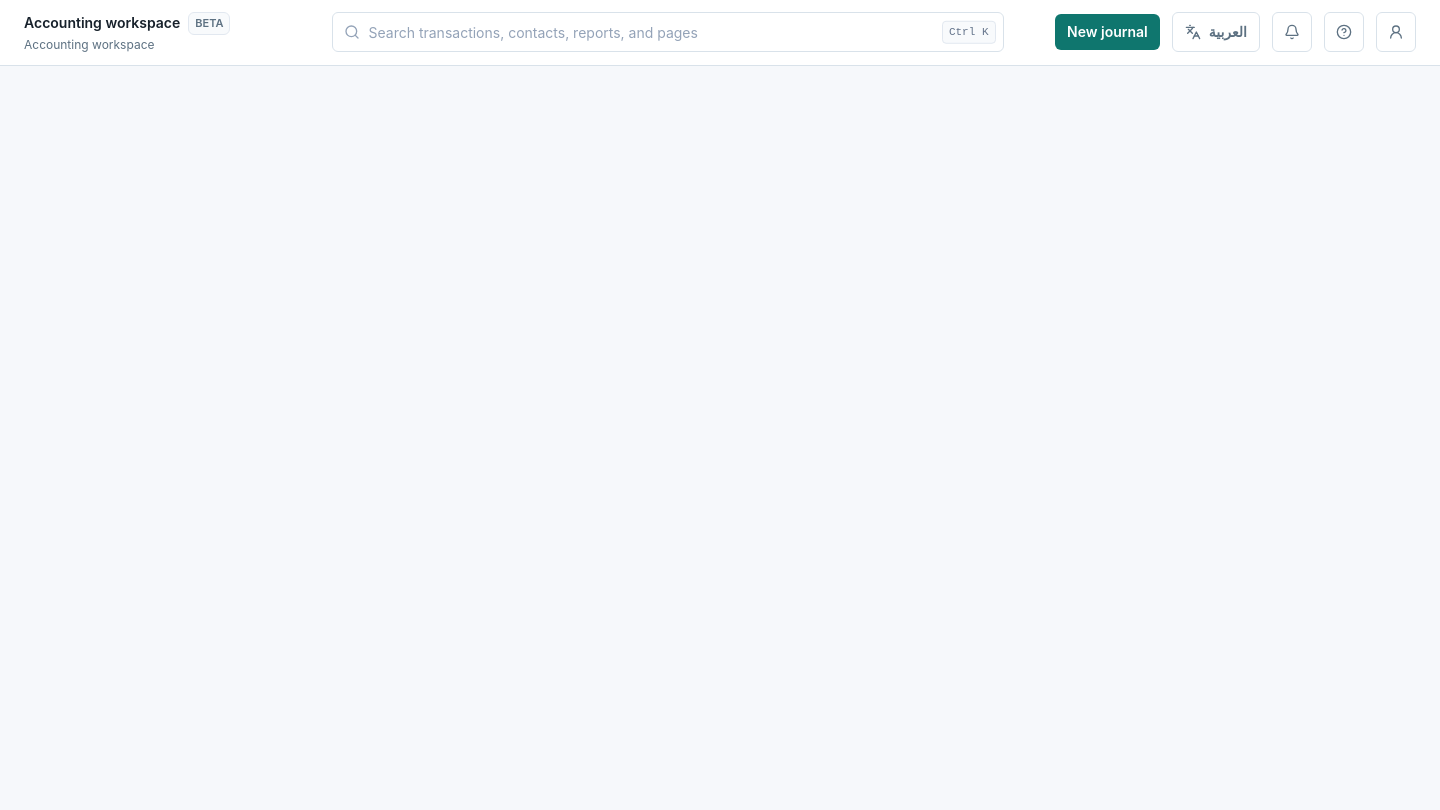
it: Topbar action menus › opens notifications and renders dashboard attention links
Click the button named "Notifications" at (1292, 32), box [1272,12,1312,52]
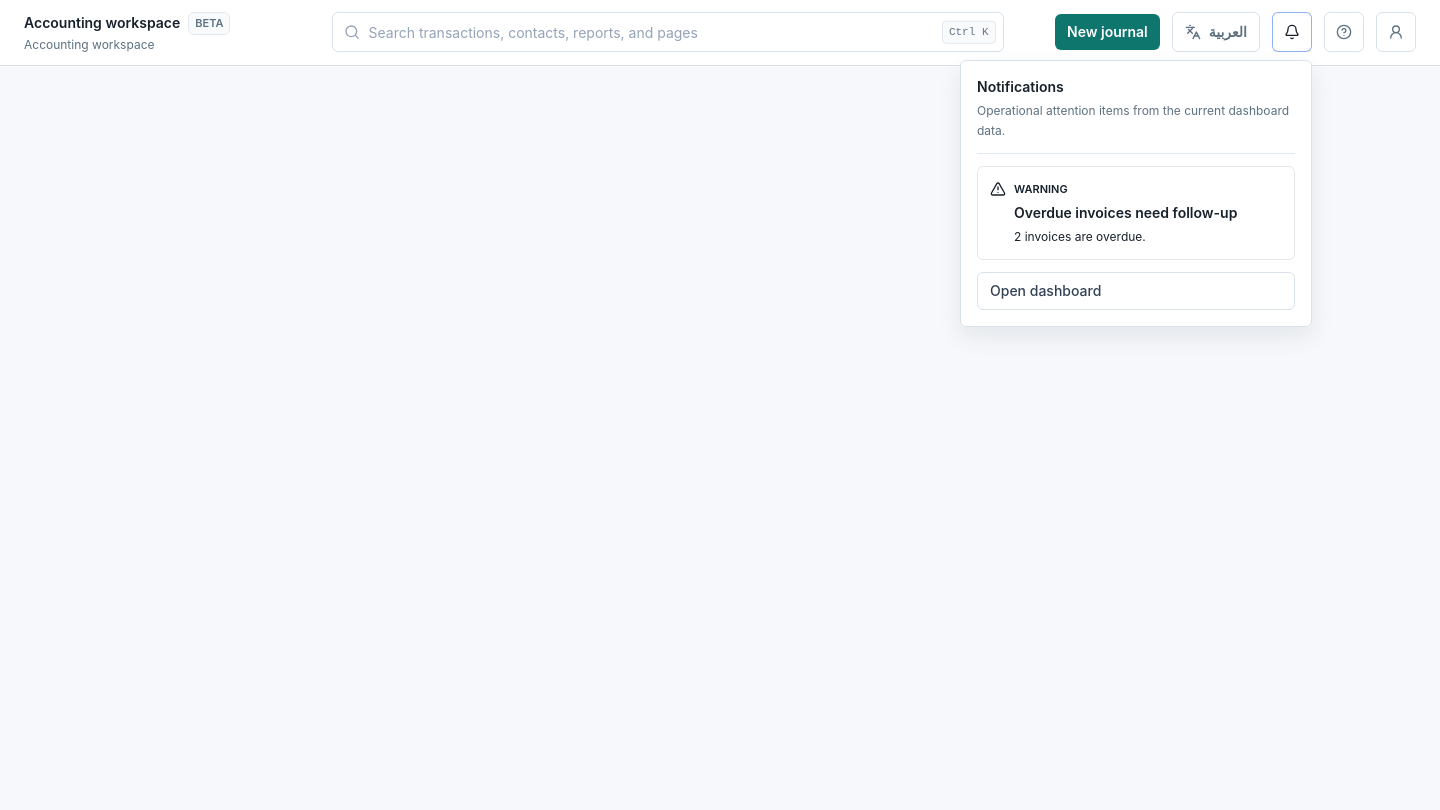
Result: the dialog "Notifications" is shown at [960,60,1312,327]
Result: the text "2 invoices are overdue." is shown at [1014,229,1146,244]
